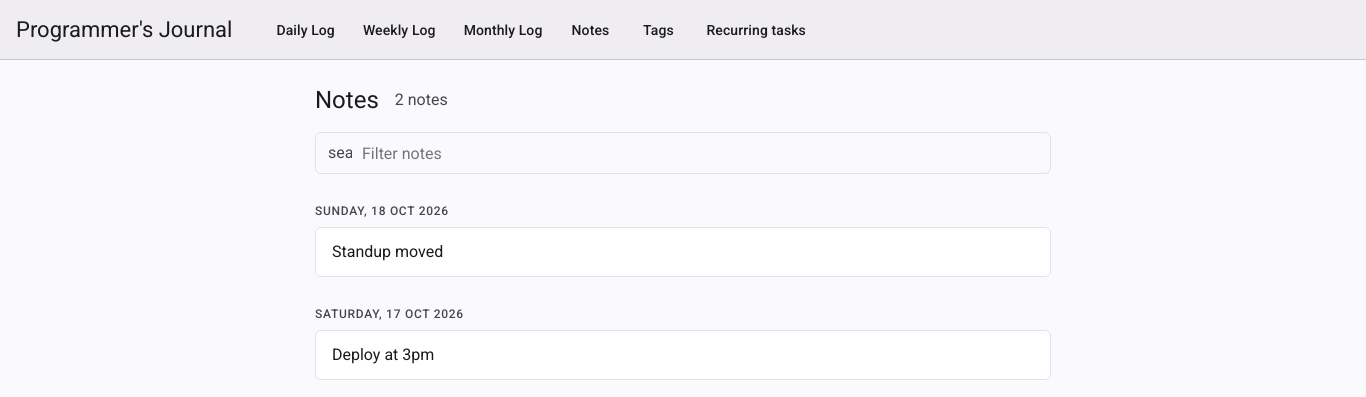
NoteListViewComponent › filters notes
Type "deploy" into the search field labelled "search" at [699, 153], box [360,133,1038,173]
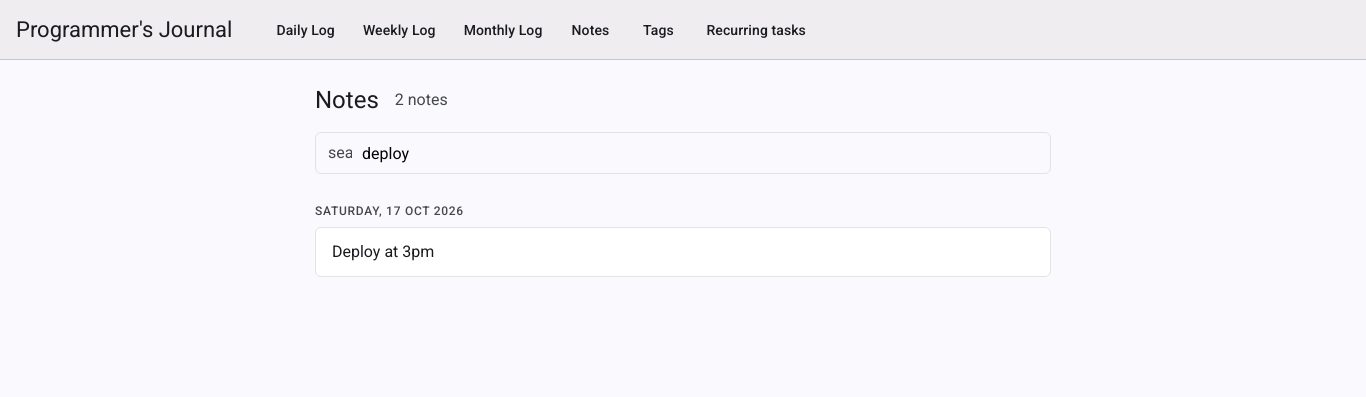
Replace the text in the search field labelled "search" with "nothing like this" at [699, 153], box [360,133,1038,173]
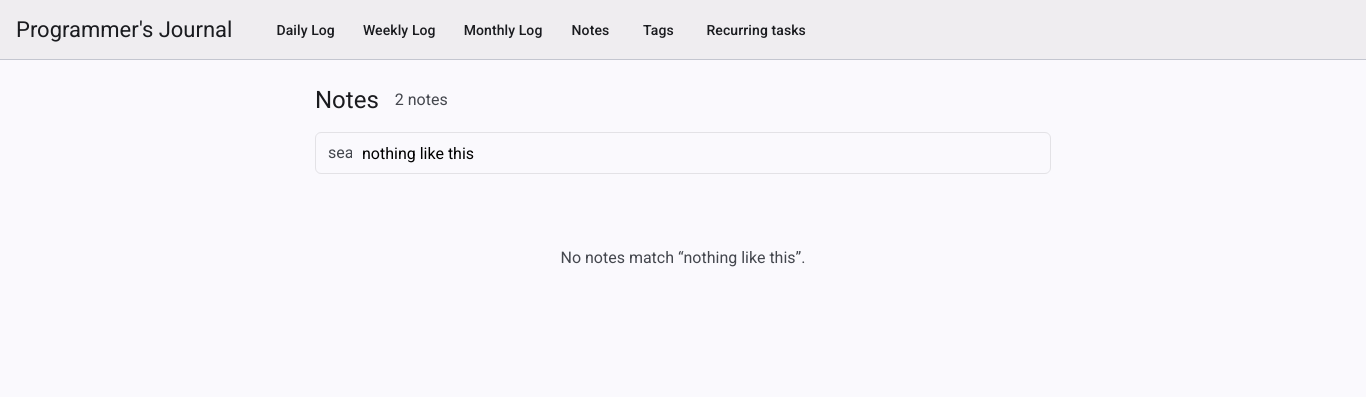
Expected: the element with class "empty-state" shows "No notes match", [560,248,806,267]
